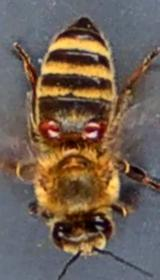varroa_mite: (34, 113, 64, 143), (76, 116, 106, 142)
